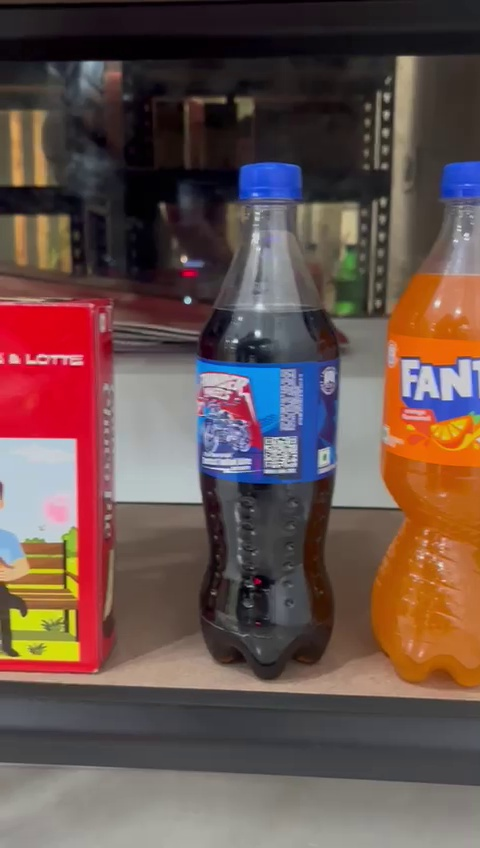Thums-up: (184, 156, 353, 675)
